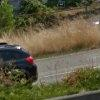Car: (1, 36, 45, 95)
